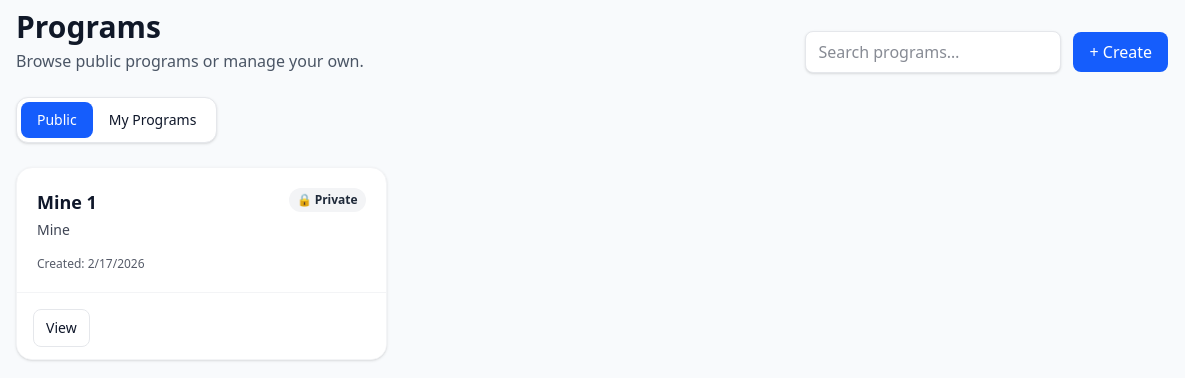
Test case: Programs page › shows user programs and create button when logged in
The image size is (1185, 378).
Click My Programs tab
Click the button "My Programs" at (153, 120), box [93,102,212,138]
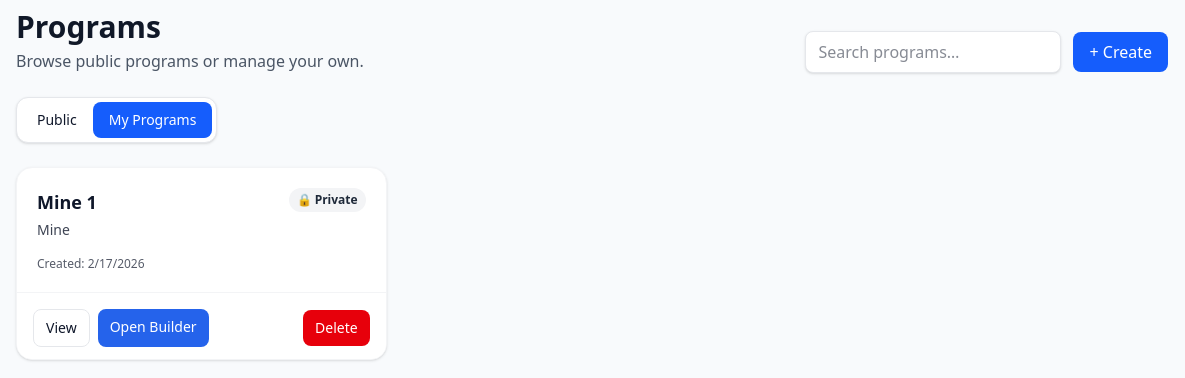
expect the link "+ Create" is shown: met, box [1074,32,1168,72]
expect the link "Open Builder" is shown: met, box [98,309,209,347]
expect the button "Delete" is shown: met, box [303,310,370,346]
